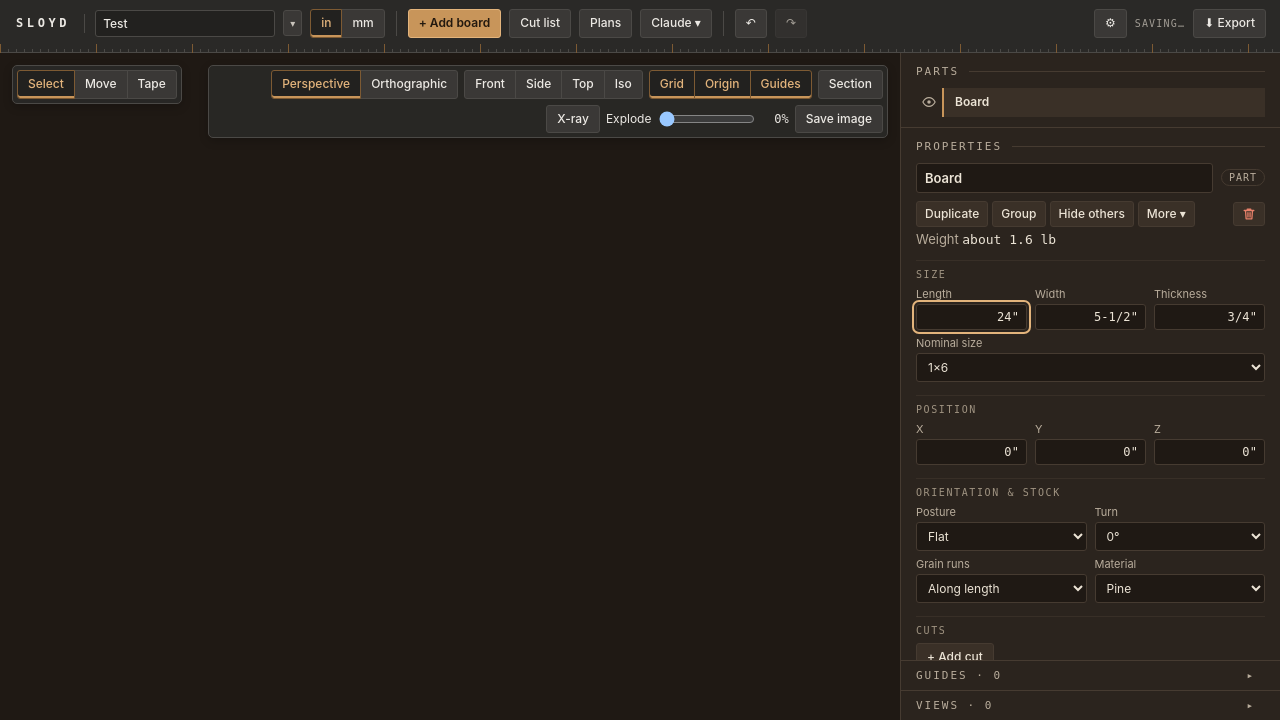
Materials & prices (lumber yield and cost spec §2.3, §4; custom materials spec §4.1) › a prices-only failure does not claim project changes
Click the button "Board": (972,101) [942,88,1265,117]
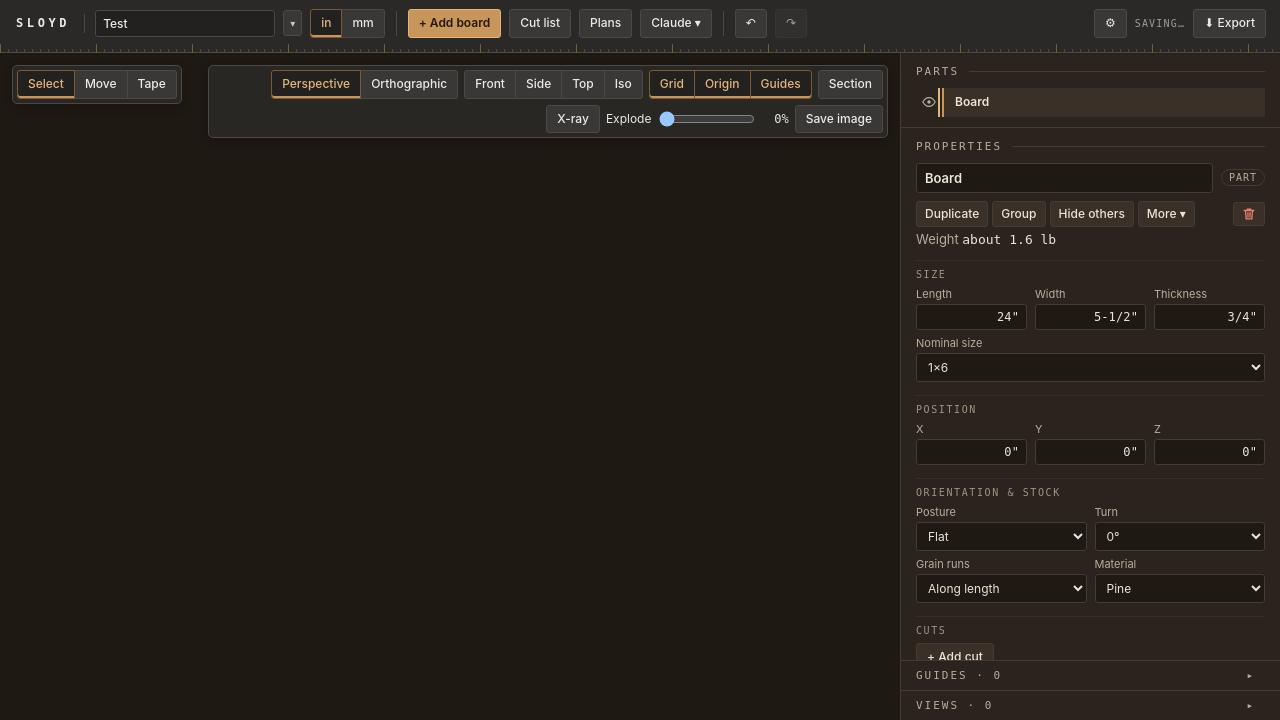
Click the button "Cut list": (540,23) [509,9,571,38]
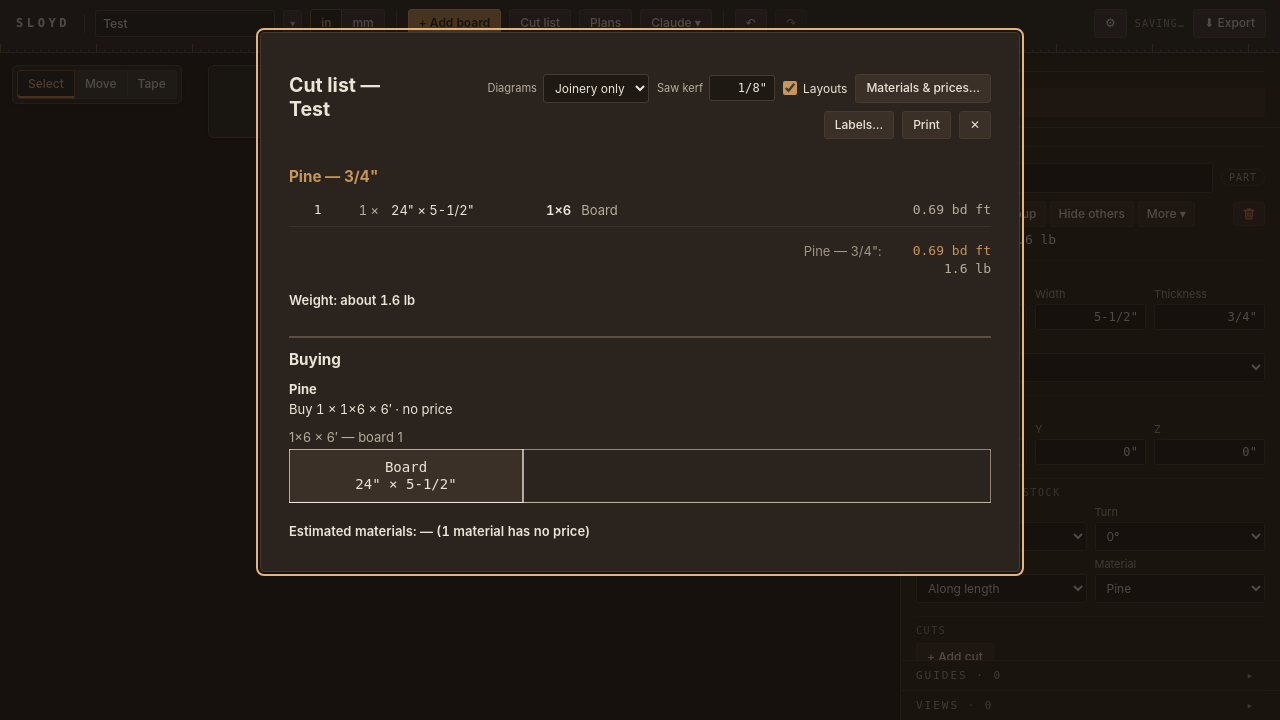
Click the button "Materials & prices…": (923,88) [855,74,991,103]
(page scrolled)
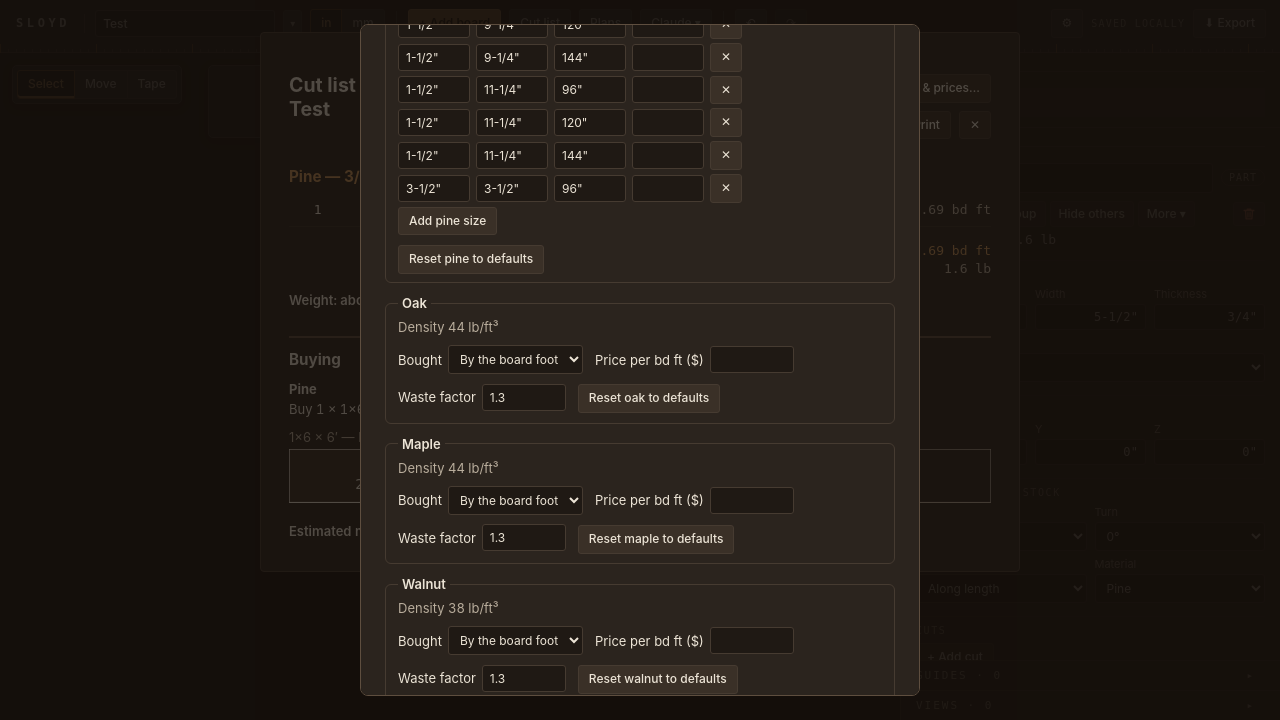
In the field named "Oak: price per board foot": (752,360) [710,346,794,373], type "8"
(page scrolled)
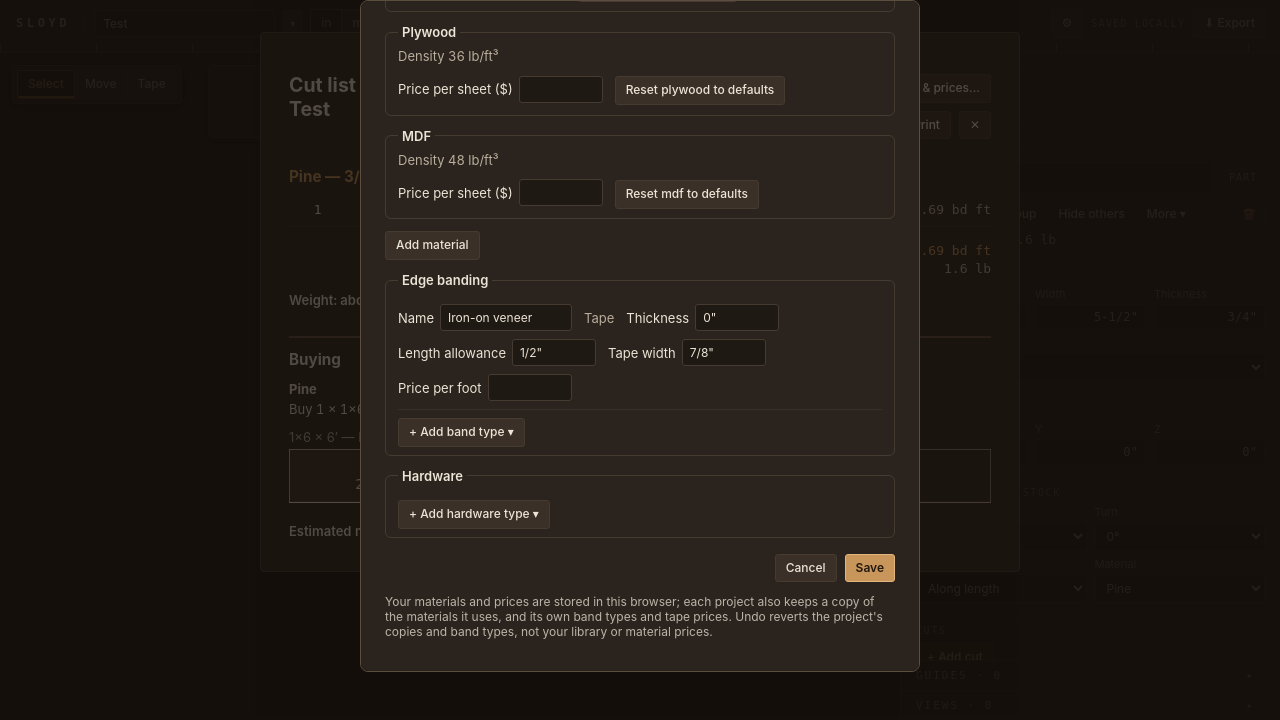
Click the button "Save": (870,568) [845,554,895,582]
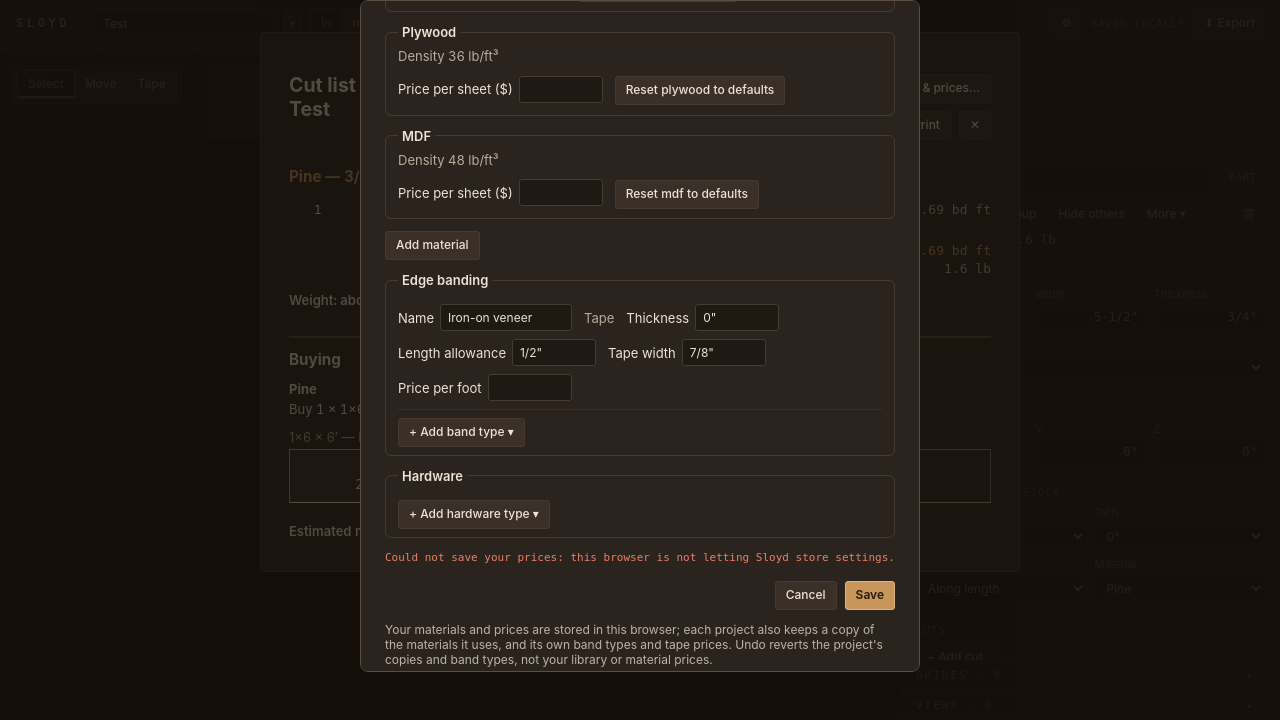
Check: the text "Could not save your prices: this browser is not letting Sloyd store settings." is shown, box [385,550,895,565]
